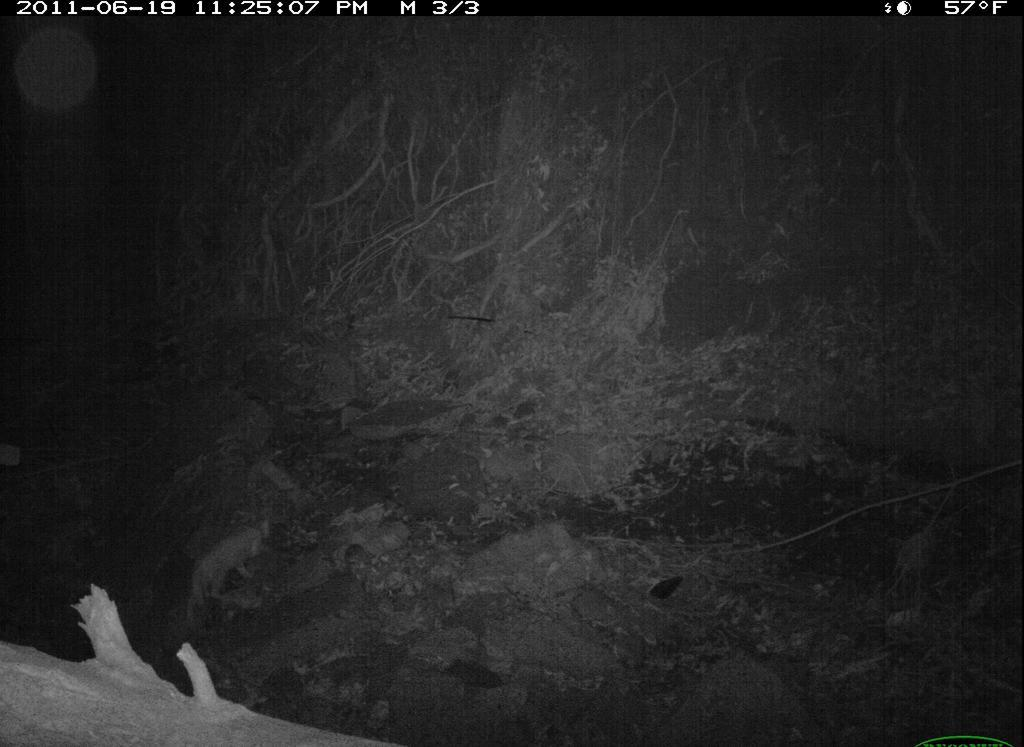cat: (175, 502, 283, 623)
